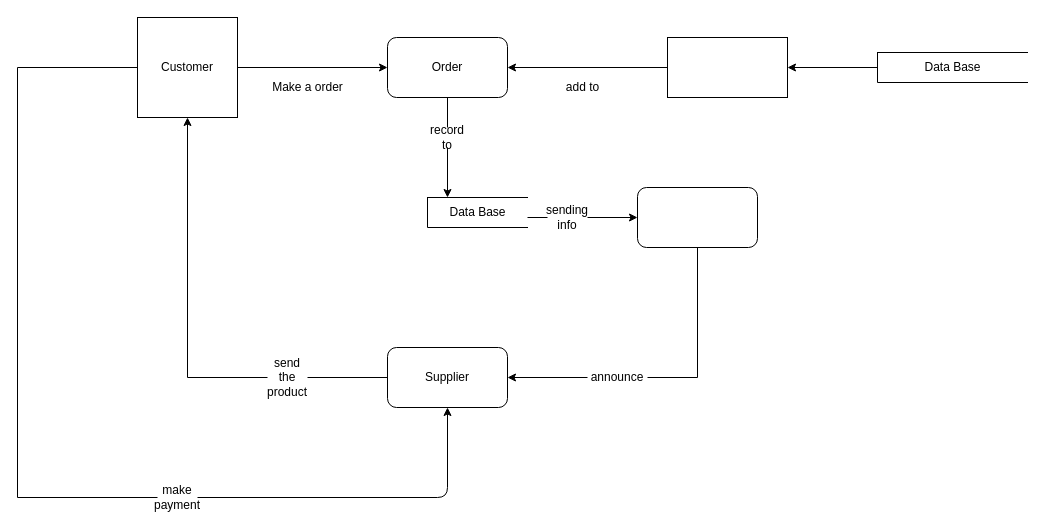
Some shapes in this 1045 by 529 pixel diagram are drawn without their labels. Each missing label, with the box of its shape:
Managment System: (636, 186, 758, 248)
Product: (666, 36, 788, 98)
